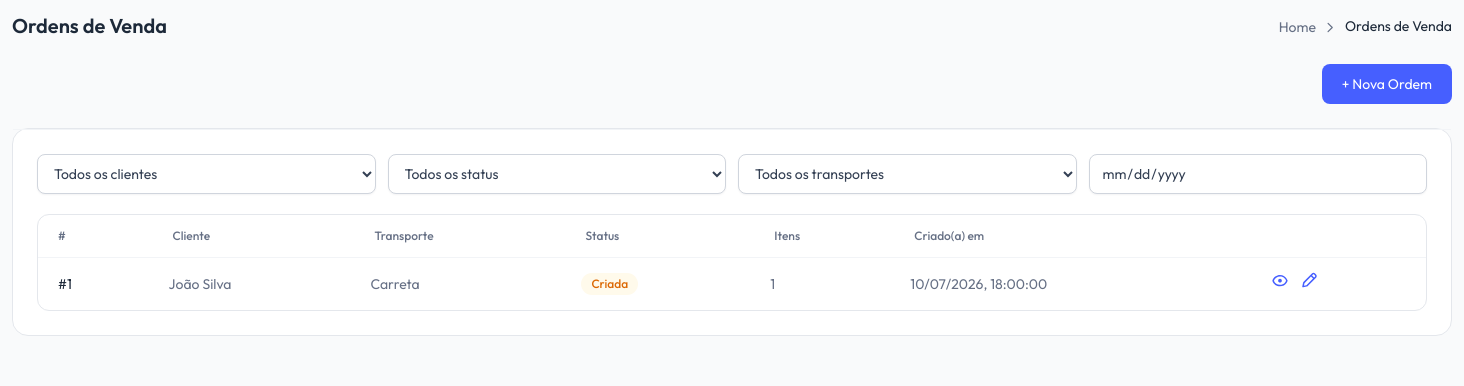
filtros › exibe botão Limpar filtros ao aplicar um filtro
Expected: the text "Limpar filtros" is not shown
Select "Criada" in the 2nd dropdown. click: (557, 174)
box: x1=388 y1=154 x2=726 y2=194
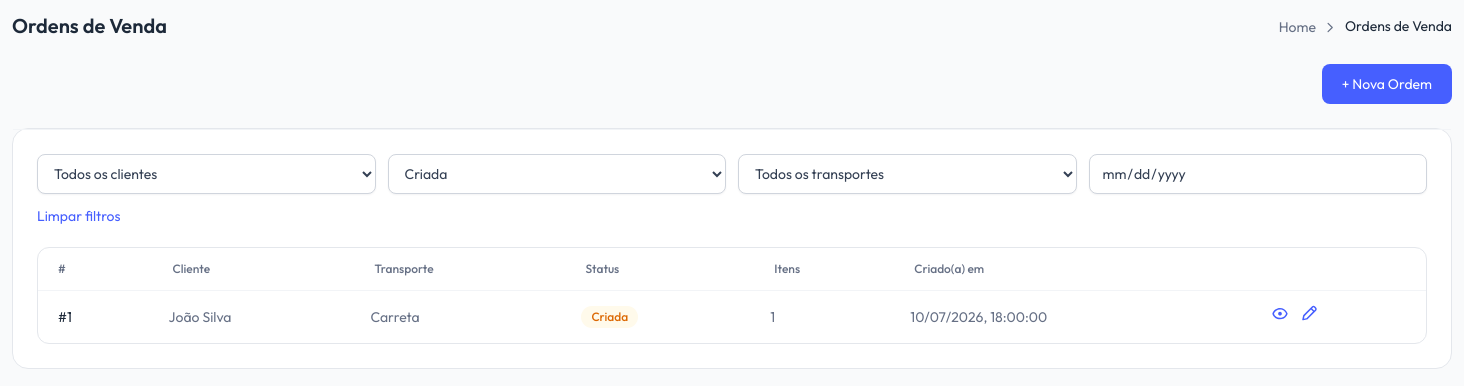
Now the button "Limpar filtros" is shown, box x1=37 y1=206 x2=120 y2=226
